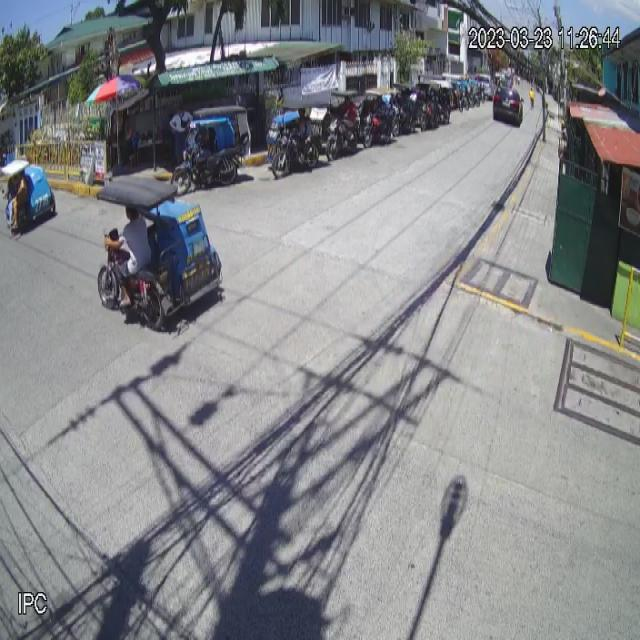Tricycle: (96, 171, 223, 330)
